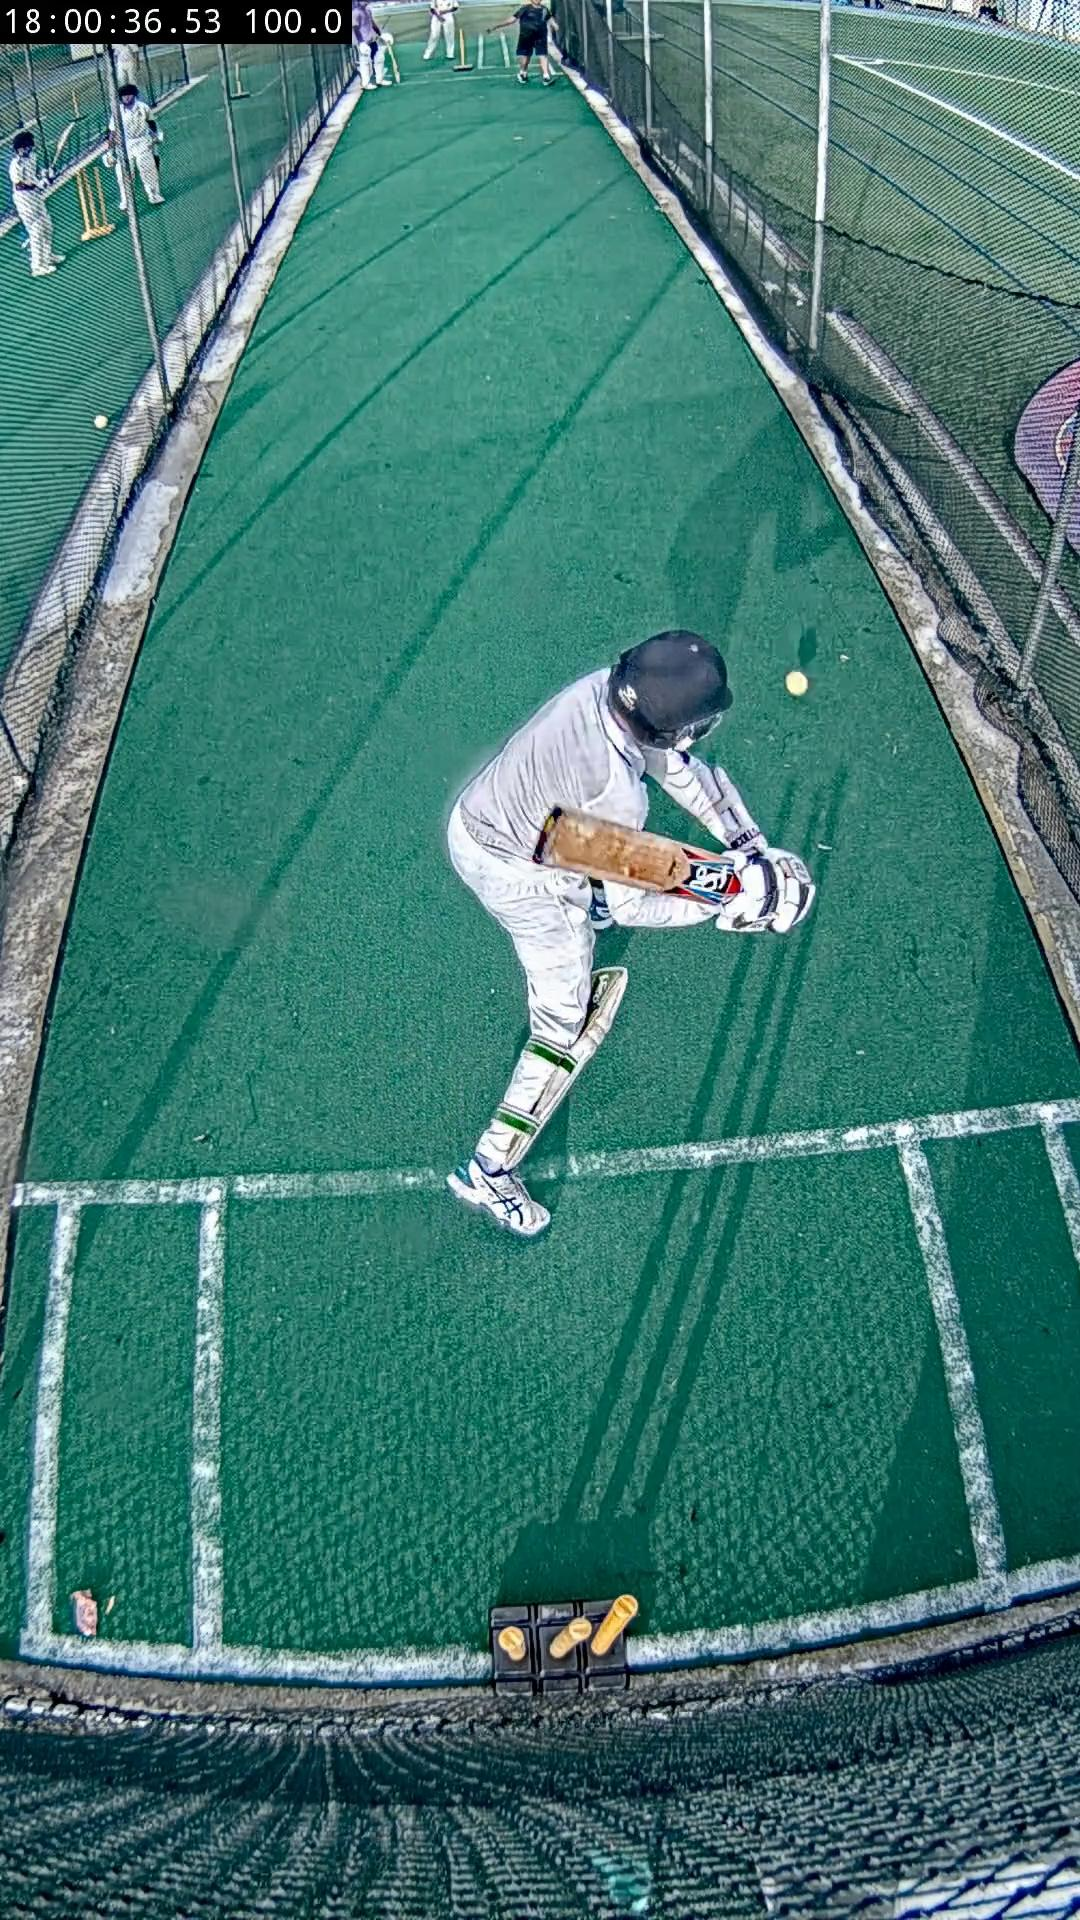ball: (783, 671, 810, 698)
bat: (537, 806, 738, 907)
gloves: (716, 844, 814, 934)
helmet: (608, 630, 732, 750)
pads: (533, 968, 626, 1134)
stumps: (492, 1594, 637, 1695)
